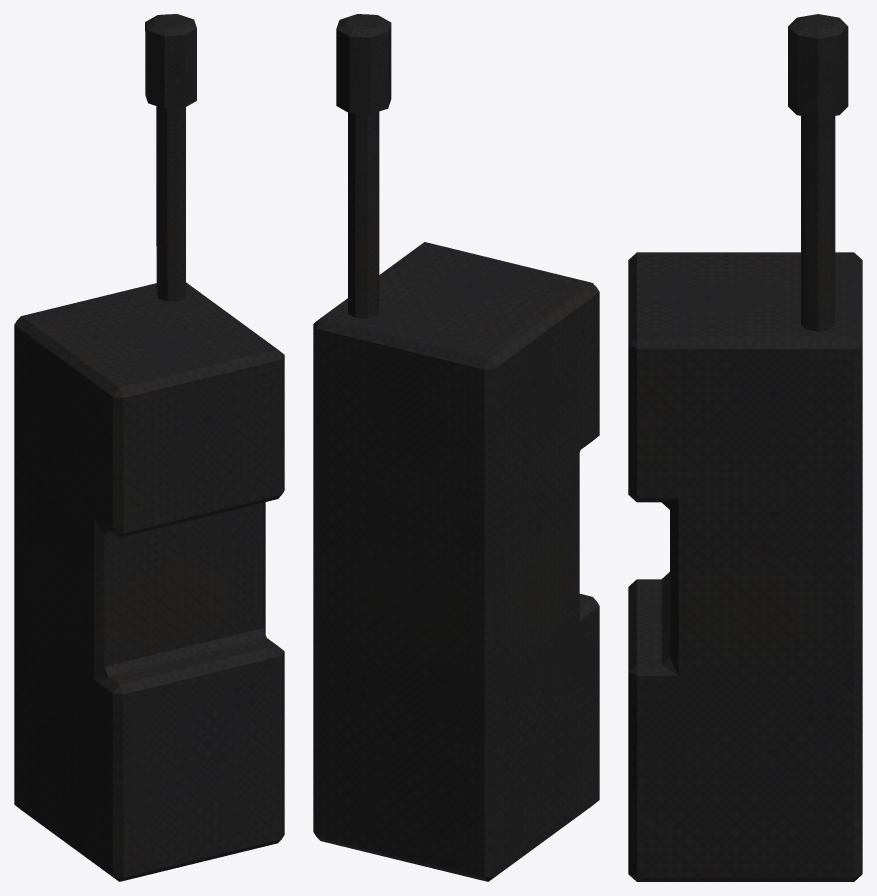
Rendered from Walkie-Talkie.fbx.
3 views of the same model, side by side, from view 1: azimuth 30°, elevation 25°; view 2: azimuth 150°, elevation 25°; view 3: azimuth 270°, elevation 25° (orthographic). The views are drawn at different scales.
Parts seen in each view (by area): view 1: Walkie-Talkie, Walkie-Talkie.001; view 2: Walkie-Talkie, Walkie-Talkie.001; view 3: Walkie-Talkie, Walkie-Talkie.001.
Boxes of the visible parts, x1=… form: Walkie-Talkie: x1=14, y1=282, x2=284, y2=881; Walkie-Talkie.001: x1=145, y1=14, x2=196, y2=301; Walkie-Talkie: x1=313, y1=242, x2=599, y2=881; Walkie-Talkie.001: x1=336, y1=14, x2=391, y2=318; Walkie-Talkie: x1=628, y1=252, x2=862, y2=881; Walkie-Talkie.001: x1=788, y1=14, x2=848, y2=331.
Size of the model in its own units: 0.129 by 0.5504 by 0.138.
1 material, 1 textured.
